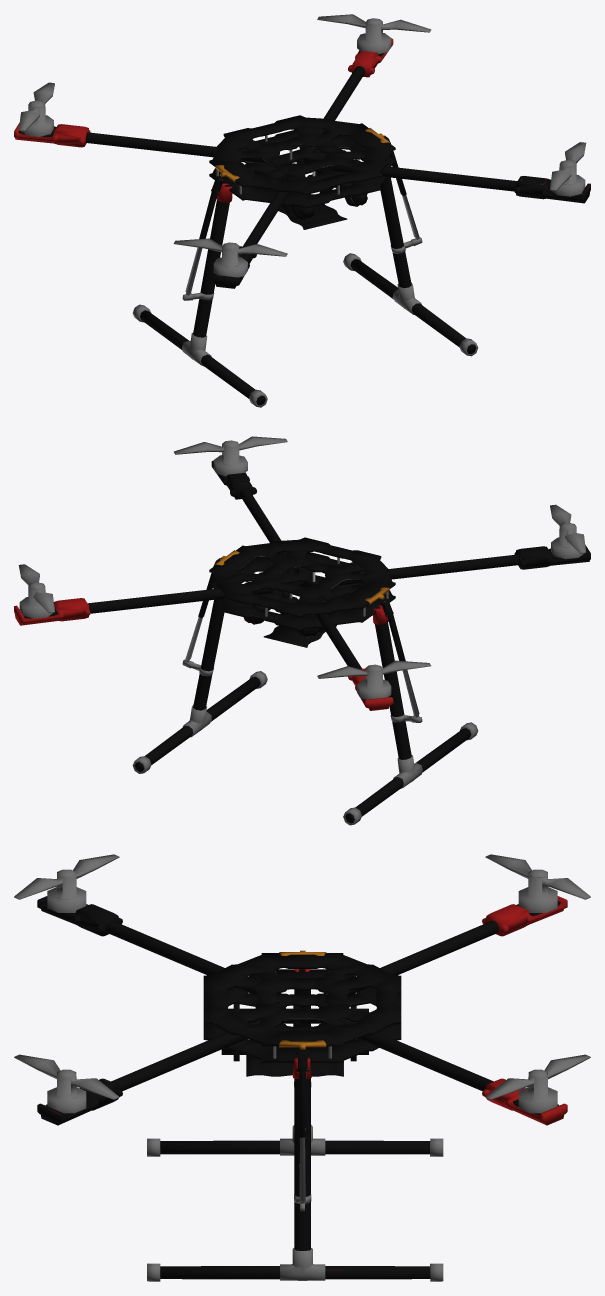
Rendered from gyrocopt.fbx.
3 renders of one model, top to bottom at view 1: azimuth 30°, elevation 25°; view 2: azimuth 150°, elevation 25°; view 3: azimuth 270°, elevation 25°, orthographic. The views are drawn at different scales.
Parts seen in each view (by area): view 1: Cylinder.015; view 2: Cylinder.015; view 3: Cylinder.015.
Part boxes in pixels (bbox=[...]): Cylinder.015: bbox=[14, 14, 590, 407]; Cylinder.015: bbox=[14, 436, 590, 825]; Cylinder.015: bbox=[14, 854, 590, 1281].
Size of the model in its own units: 53.4 by 25.28 by 53.18.
